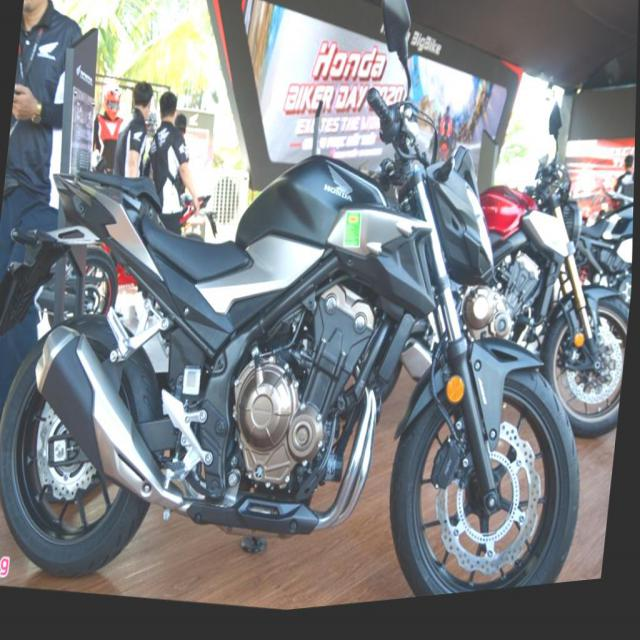CB500F: (0, 78, 614, 639)
